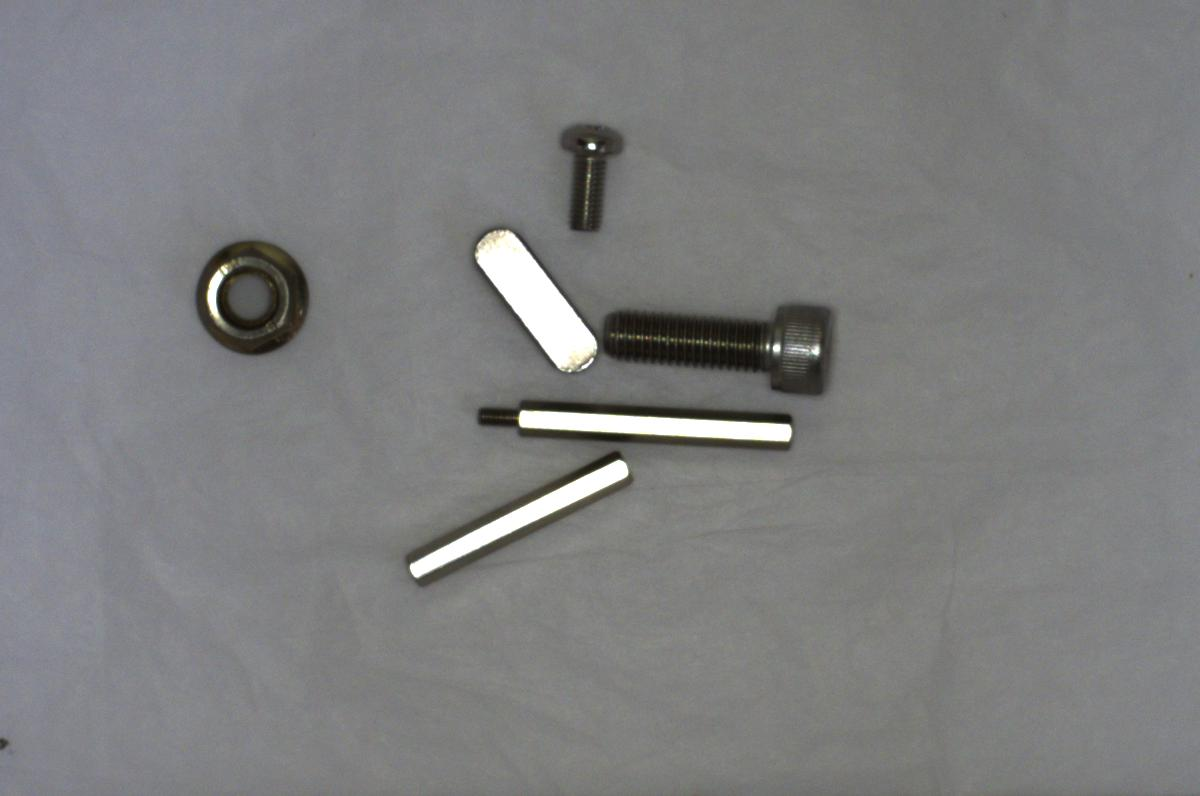Double hexagonal column: (398, 449, 637, 586)
Flange nut: (178, 232, 317, 360)
Hexagon screw: (598, 286, 841, 398)
Hexagonal steel column: (465, 392, 801, 455)
Keybar: (471, 224, 602, 377)
Round head screw: (550, 106, 621, 233)
